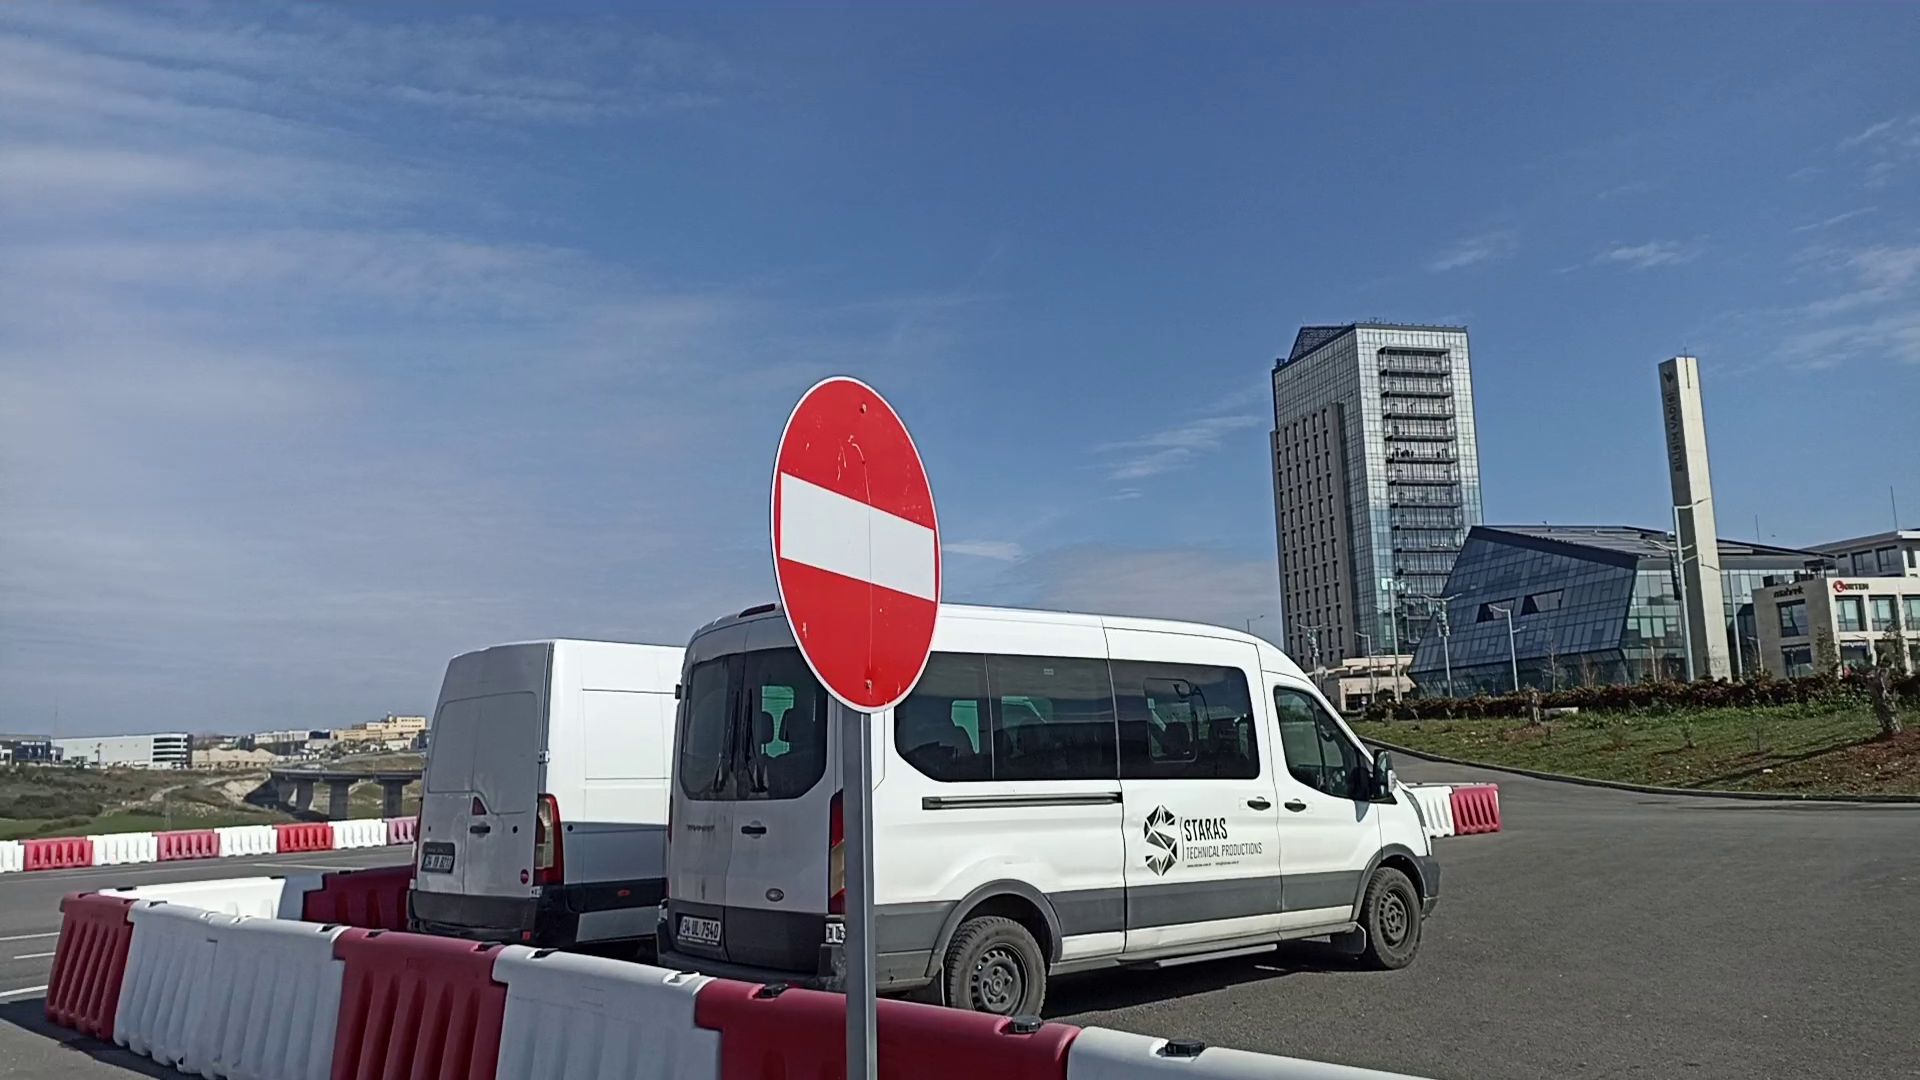noentryway: (766, 373, 945, 717)
